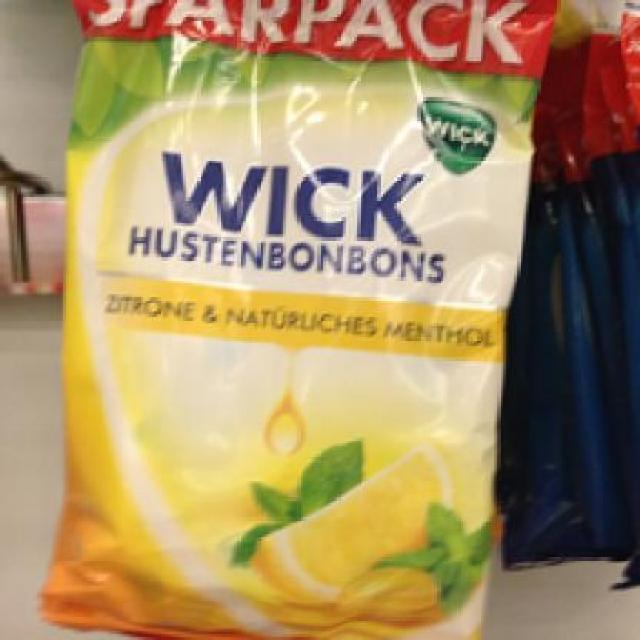Candy: (63, 2, 526, 638)
